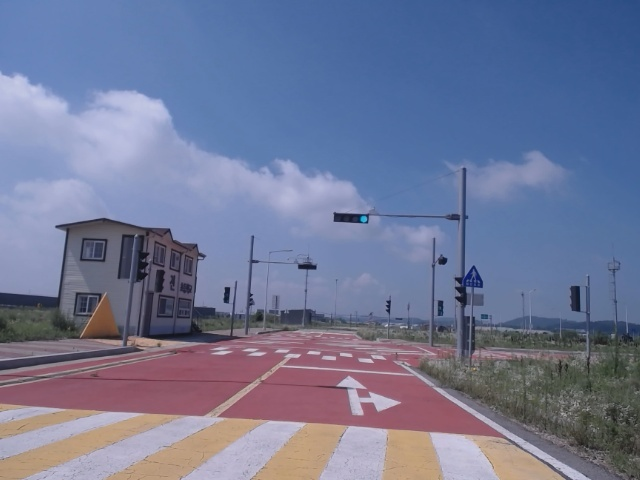straight_green_4: (334, 214, 369, 223)
